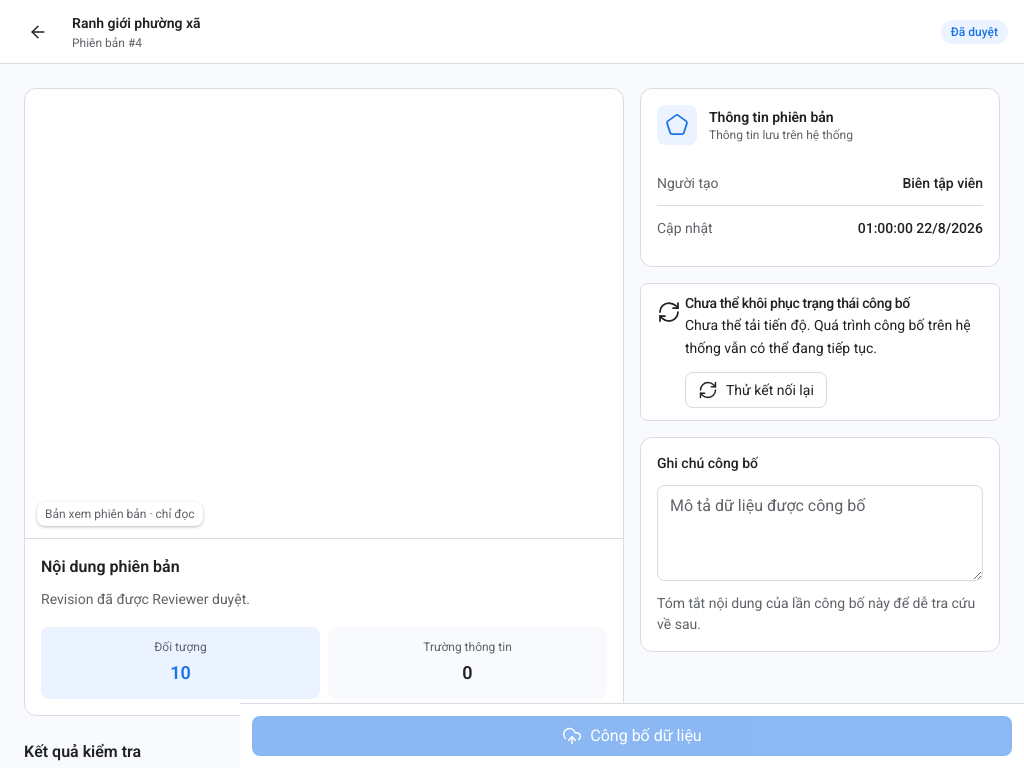
Test case: revision review publication capability › clears a stale recovery warning when the server accepts a connected publish job
This screenshot has width=1024, height=768.
Expected: the heading "Chưa thể khôi phục trạng thái công bố" is shown, [685,295,910,311]
Type "Công bố sau recovery warning" into the text box labelled "Ghi chú công bố".
click(820, 533); type("Công bố sau recovery warning")  # box [657,485,983,581]
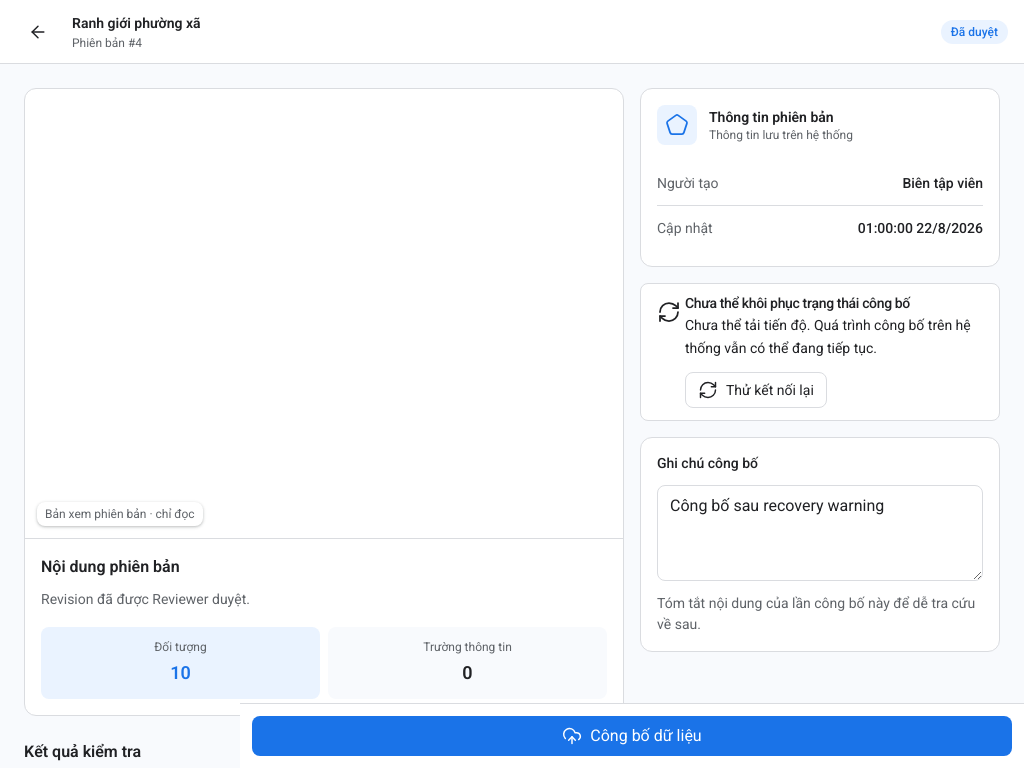
Click the button "Công bố dữ liệu".
click(632, 736)  # box [252,716,1012,756]
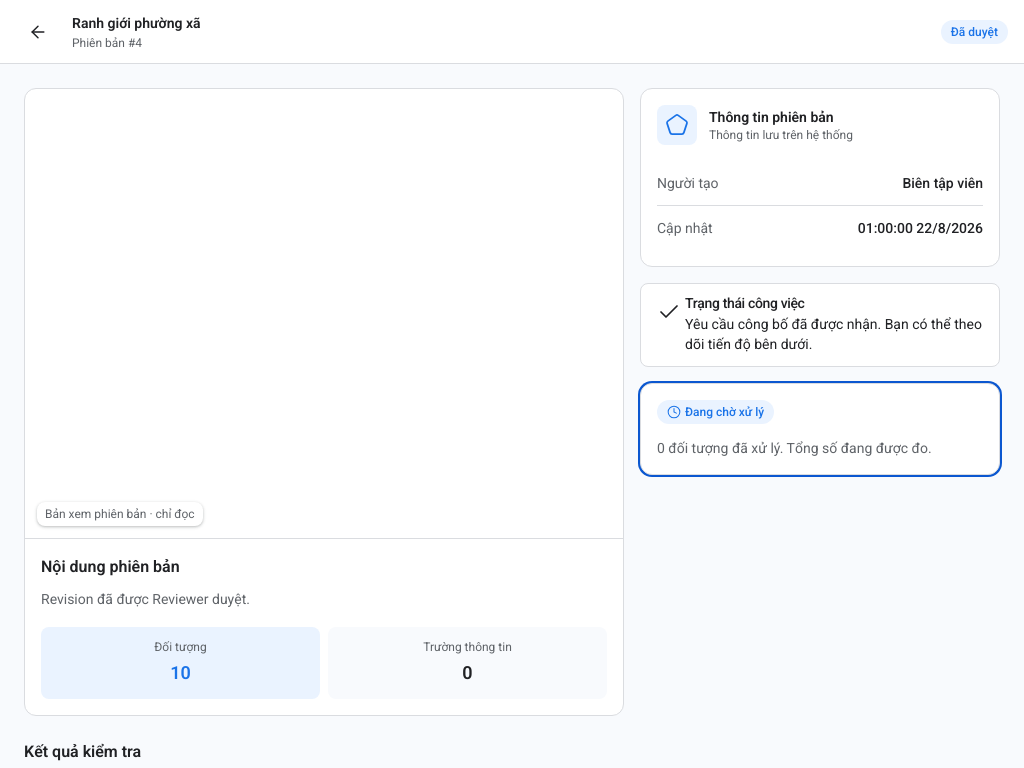
Expected: the element named "Trạng thái yêu cầu công bố" is shown, [640,383,1000,475]
Expected: the heading "Chưa thể khôi phục trạng thái công bố" is gone
